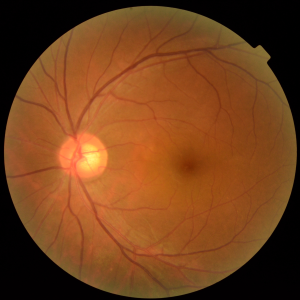glaucoma: (43, 98, 229, 223)
